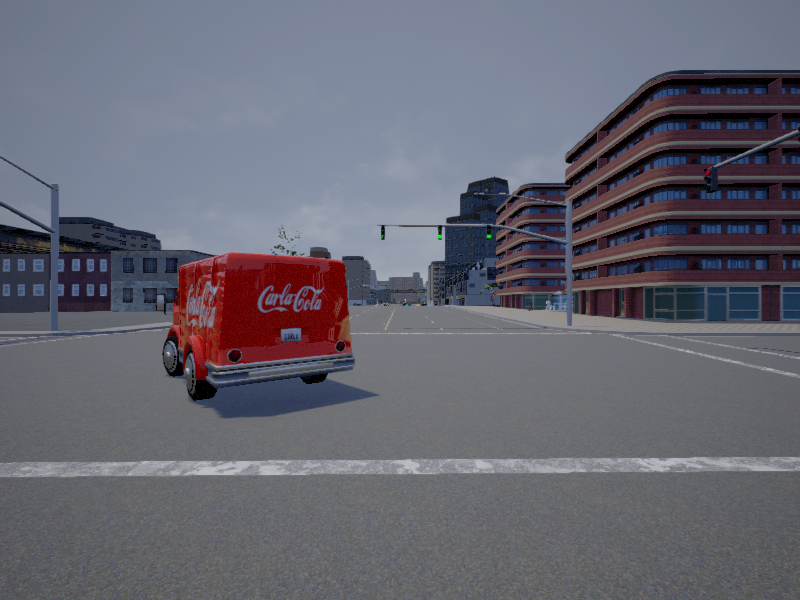Benign: (160, 251, 357, 403)
